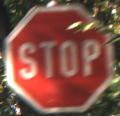Stop sign: (0, 0, 119, 115)
